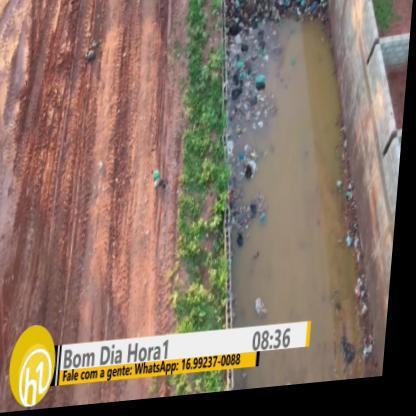agua: (257, 45, 336, 329)
